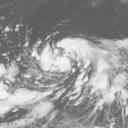cyclone: (33, 36, 113, 99)
